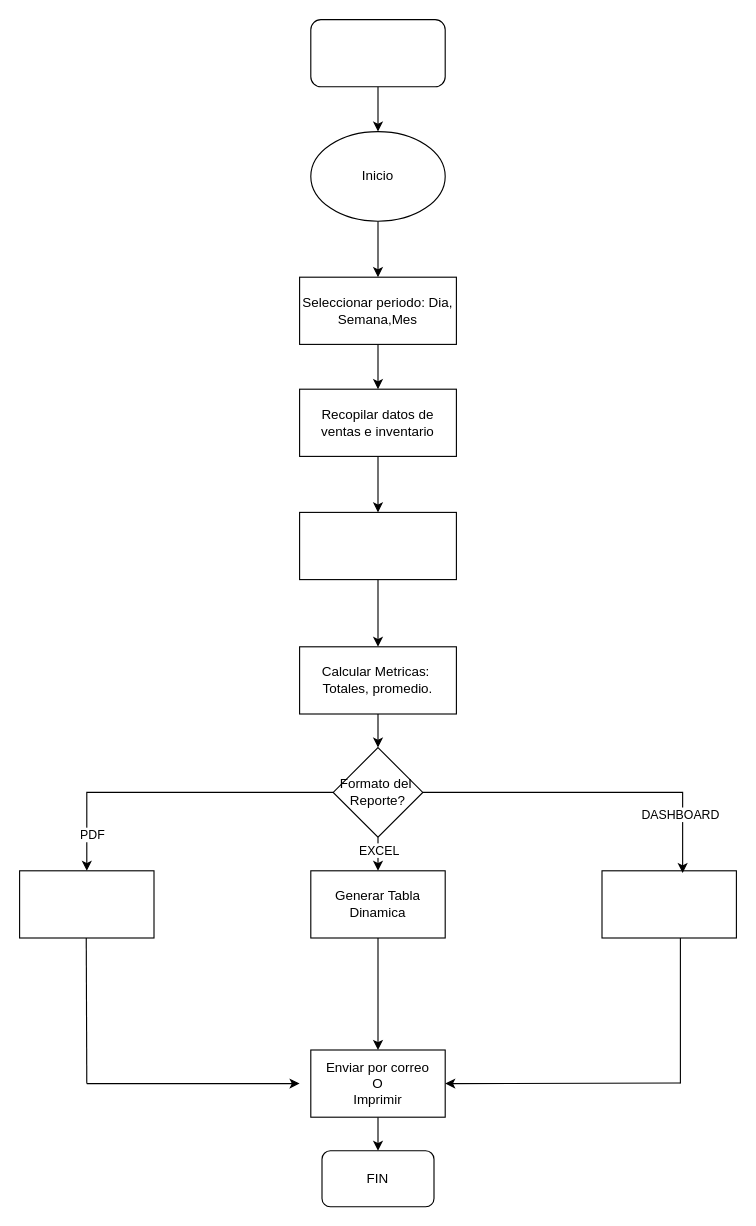
The diagram is 756 pixels wide and 1226 high, and some of its shapes have lost their labels. Each missing label, with the centre of its shape:
"Actualizar panel visual" belongs at (x=668, y=904).
"Agrupar por: Producto, galeria, vendedor." belongs at (x=377, y=545).
"Generar PDF con Graficos" belongs at (x=86, y=904).
"Sistema Alpasnore" belongs at (x=377, y=52).
